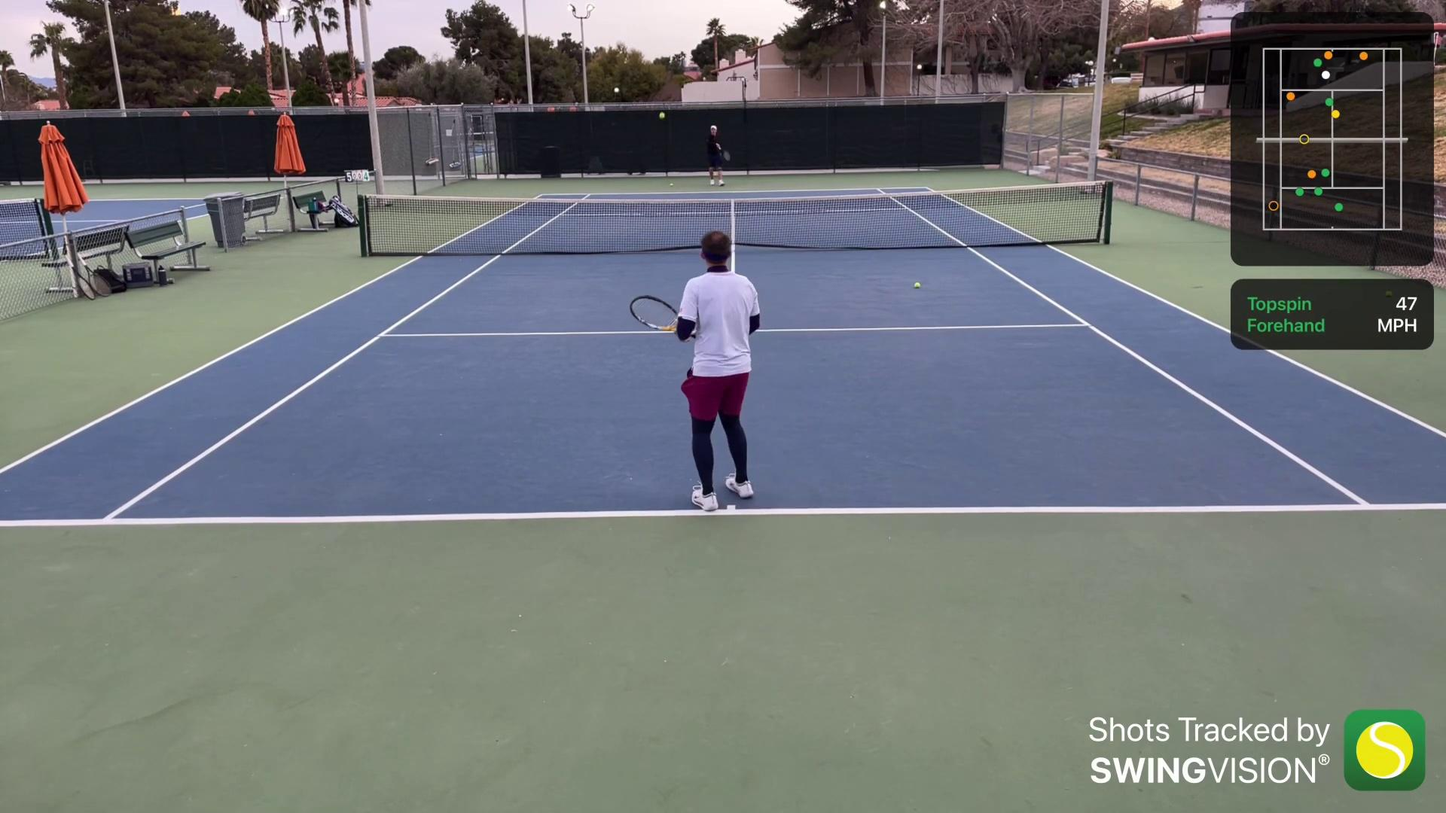ball: (911, 281, 924, 291), (668, 180, 674, 189), (658, 113, 665, 120)
